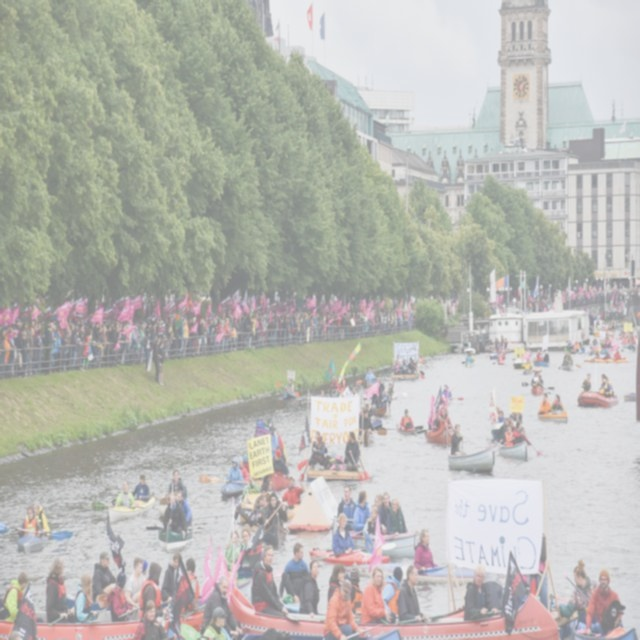pessoa: (0, 317, 144, 379), (144, 308, 276, 362), (486, 282, 639, 319), (276, 308, 414, 348), (554, 558, 600, 626), (584, 567, 624, 640), (251, 544, 289, 619), (200, 576, 244, 639), (322, 578, 364, 640), (277, 540, 311, 606), (2, 571, 45, 623), (46, 555, 76, 624), (361, 566, 396, 624), (464, 563, 498, 621), (327, 562, 361, 620), (132, 598, 178, 640), (397, 564, 429, 624), (138, 562, 169, 620), (106, 570, 136, 623), (232, 528, 255, 588), (91, 550, 117, 603), (298, 558, 320, 620), (74, 574, 100, 624), (262, 491, 288, 541), (161, 492, 188, 540), (413, 528, 440, 574), (381, 566, 404, 616), (534, 532, 548, 614), (160, 552, 182, 604), (180, 557, 200, 613), (200, 606, 232, 640), (126, 557, 146, 611), (332, 512, 355, 556), (336, 485, 357, 532), (386, 498, 411, 536), (16, 505, 44, 538), (353, 490, 372, 537), (348, 566, 364, 616), (308, 434, 329, 472), (282, 474, 306, 507), (224, 530, 242, 571), (616, 319, 638, 352), (32, 500, 51, 538), (177, 489, 193, 532), (114, 480, 136, 510), (168, 469, 188, 501), (378, 491, 392, 536), (344, 432, 359, 472), (451, 424, 469, 456), (242, 472, 260, 502), (132, 473, 150, 502), (272, 449, 290, 478), (512, 420, 532, 446), (359, 408, 377, 436), (362, 506, 378, 537), (346, 433, 359, 471), (253, 482, 268, 514), (226, 456, 243, 484), (152, 337, 162, 383), (436, 296, 458, 316), (311, 430, 328, 455), (599, 321, 612, 352), (496, 416, 509, 446), (436, 408, 452, 432), (142, 330, 151, 370), (258, 492, 270, 521), (577, 318, 600, 333), (400, 408, 414, 432), (371, 384, 384, 409), (238, 457, 250, 482), (550, 394, 564, 414), (158, 340, 164, 386), (539, 392, 552, 413), (508, 406, 523, 424), (603, 374, 614, 398), (276, 444, 288, 466), (370, 494, 383, 514), (598, 374, 609, 396), (548, 324, 570, 335), (503, 426, 515, 446), (582, 373, 594, 392), (378, 388, 389, 408), (326, 376, 339, 392), (516, 346, 532, 358), (365, 402, 375, 421), (282, 378, 294, 393), (433, 407, 441, 429), (6, 629, 22, 640), (319, 389, 338, 398), (533, 372, 543, 388), (366, 368, 376, 384), (400, 358, 410, 374), (139, 559, 149, 574), (564, 352, 574, 366), (441, 384, 451, 398), (392, 360, 402, 374), (521, 359, 532, 371), (496, 410, 506, 423), (536, 374, 544, 390), (266, 478, 274, 493), (508, 418, 516, 432), (378, 378, 386, 392), (409, 358, 417, 372), (241, 522, 252, 532), (394, 354, 402, 367), (531, 372, 537, 389), (524, 359, 532, 371), (542, 350, 550, 362), (536, 349, 543, 362), (366, 366, 375, 376), (496, 352, 504, 363), (586, 374, 592, 388), (562, 351, 568, 365), (351, 387, 359, 397), (338, 376, 343, 392), (500, 348, 506, 361), (574, 339, 580, 352), (446, 385, 452, 398), (580, 342, 586, 354), (388, 382, 394, 394), (594, 350, 601, 360), (604, 350, 611, 360), (613, 350, 620, 360), (612, 317, 616, 334), (466, 352, 472, 363), (496, 404, 501, 417), (360, 406, 364, 422), (470, 352, 475, 364), (566, 340, 572, 350), (318, 434, 324, 444), (418, 354, 423, 364), (444, 408, 449, 418), (500, 334, 504, 346), (504, 338, 508, 350), (578, 318, 582, 329), (594, 336, 598, 345), (494, 337, 498, 345), (596, 318, 600, 326), (435, 408, 438, 418), (616, 348, 620, 354), (496, 338, 498, 349), (412, 359, 414, 362)
